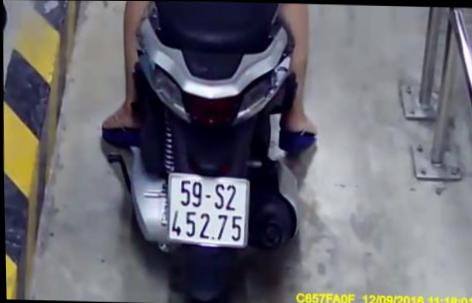LP: (163, 169, 253, 250)
